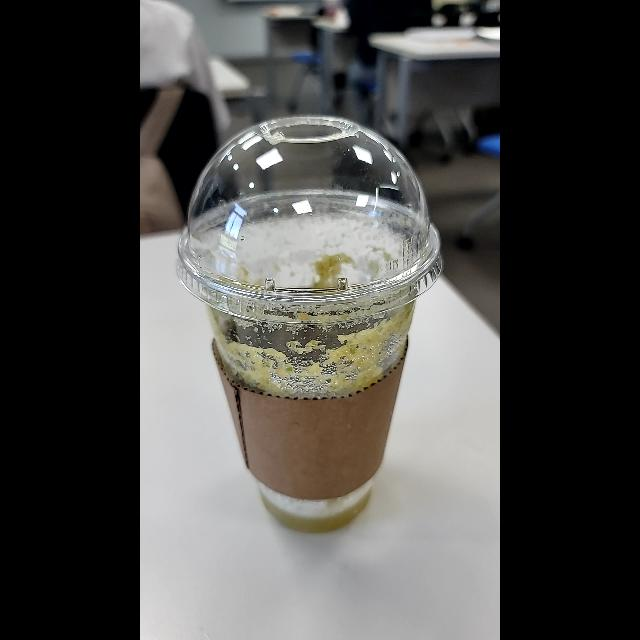plastic_cup: (174, 115, 446, 532)
plastic_cup_lid: (176, 118, 444, 322)
